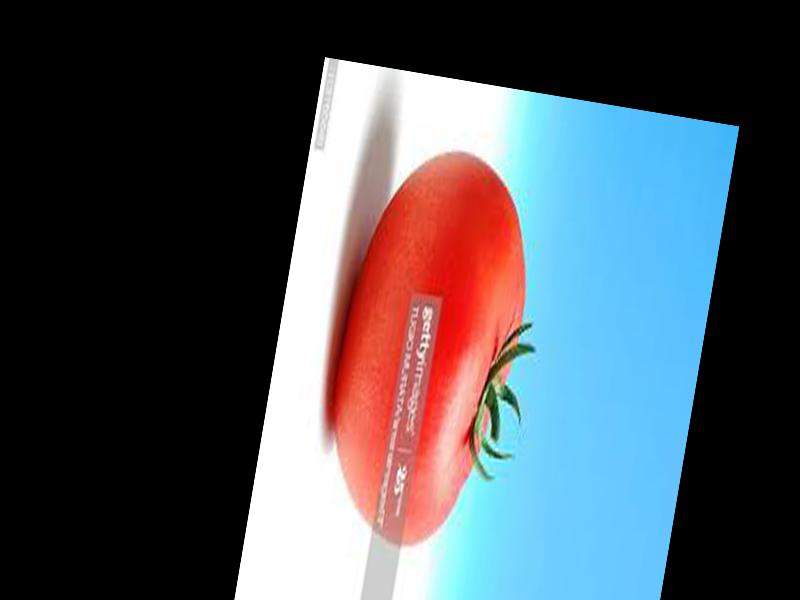Tomato: (312, 140, 546, 561)
